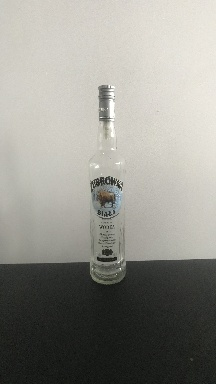butelka: (87, 80, 127, 287)
